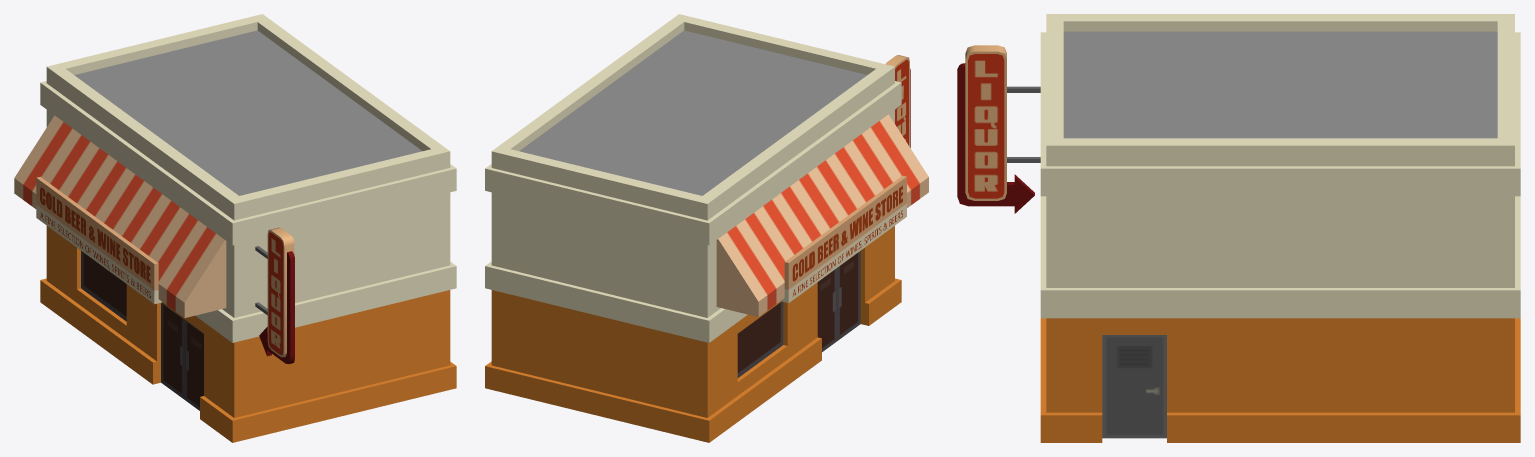
File: west_fangzi01.FBX
3 views of the same model, side by side, from view 1: azimuth 30°, elevation 25°; view 2: azimuth 150°, elevation 25°; view 3: azimuth 270°, elevation 25° (orthographic). The views are drawn at different scales.
Visible parts, largest first — view 1: west_fangzi01; view 2: west_fangzi01; view 3: west_fangzi01.
Boxes of the visible parts, x1,y1,x2,y2 form: west_fangzi01: (14,14,456,442); west_fangzi01: (485,14,928,442); west_fangzi01: (957,14,1520,442).
Size of the model in its own units: 2106 by 1788 by 3096.
